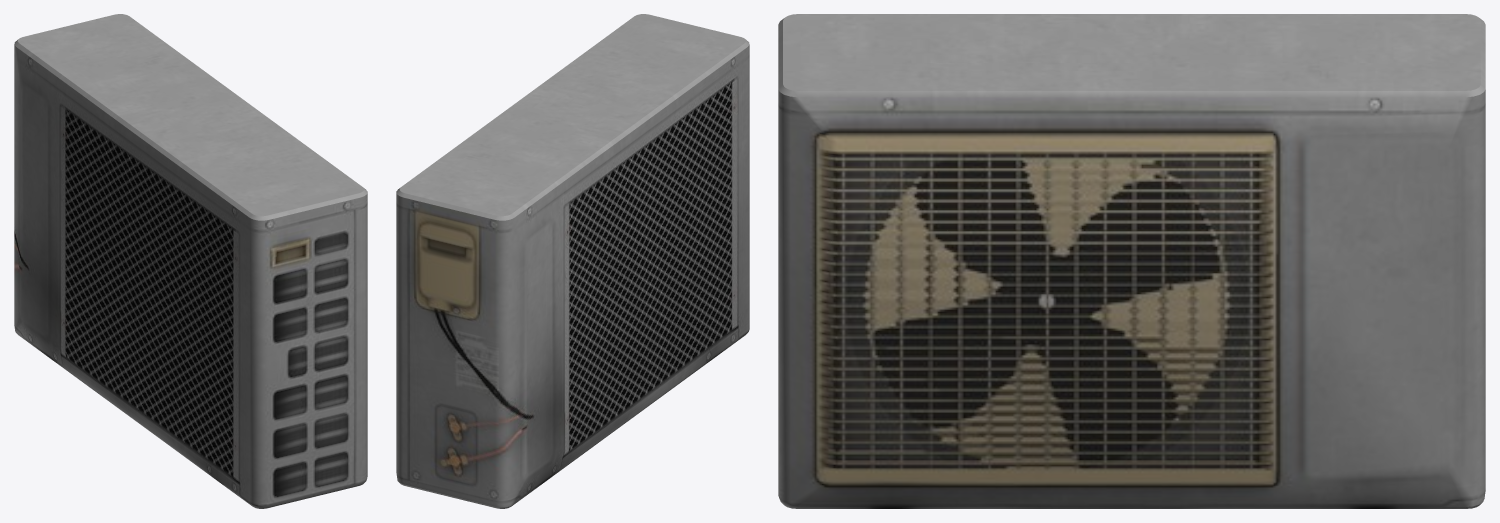
Rendered from aircon.glb.
3 views of the same model, side by side, from view 1: azimuth 30°, elevation 25°; view 2: azimuth 150°, elevation 25°; view 3: azimuth 270°, elevation 25° (orthographic). The views are drawn at different scales.
Visible parts, largest first — view 1: aircon; view 2: aircon; view 3: aircon.
Boxes of the visible parts, x1,y1,x2,y2 form: aircon: (14,14,367,508); aircon: (396,14,749,508); aircon: (778,14,1485,508).
Size of the model in its own units: 0.2285 by 0.4937 by 0.7541.
Materials: 1 (1 with a texture image).
